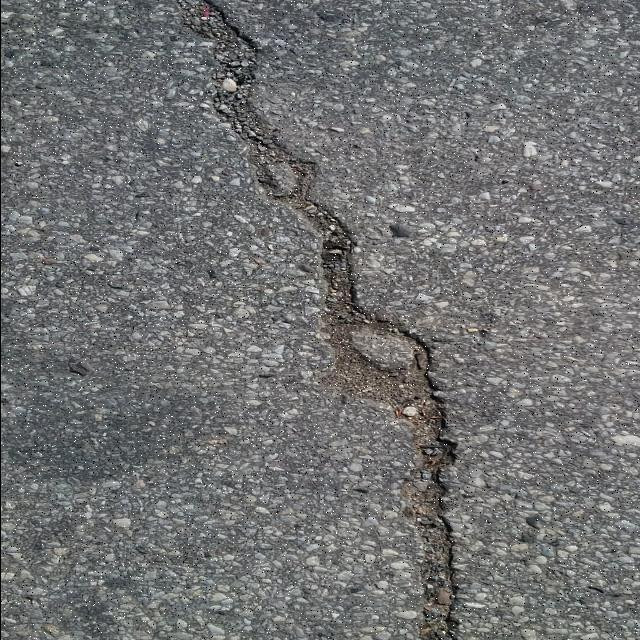Crack: (172, 0, 462, 640)
